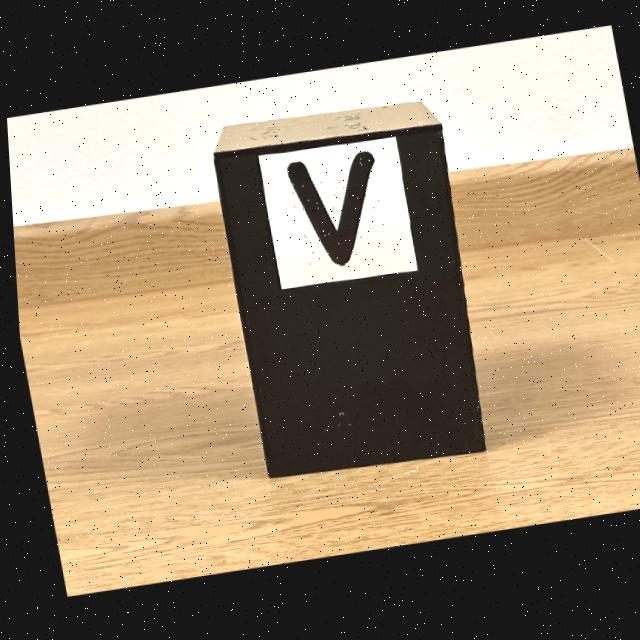V: (284, 153, 372, 267)
